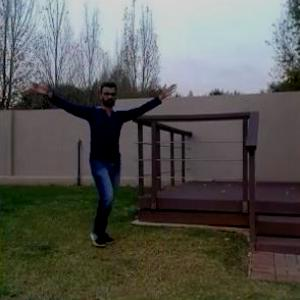takeoff: (15, 85, 168, 251)
